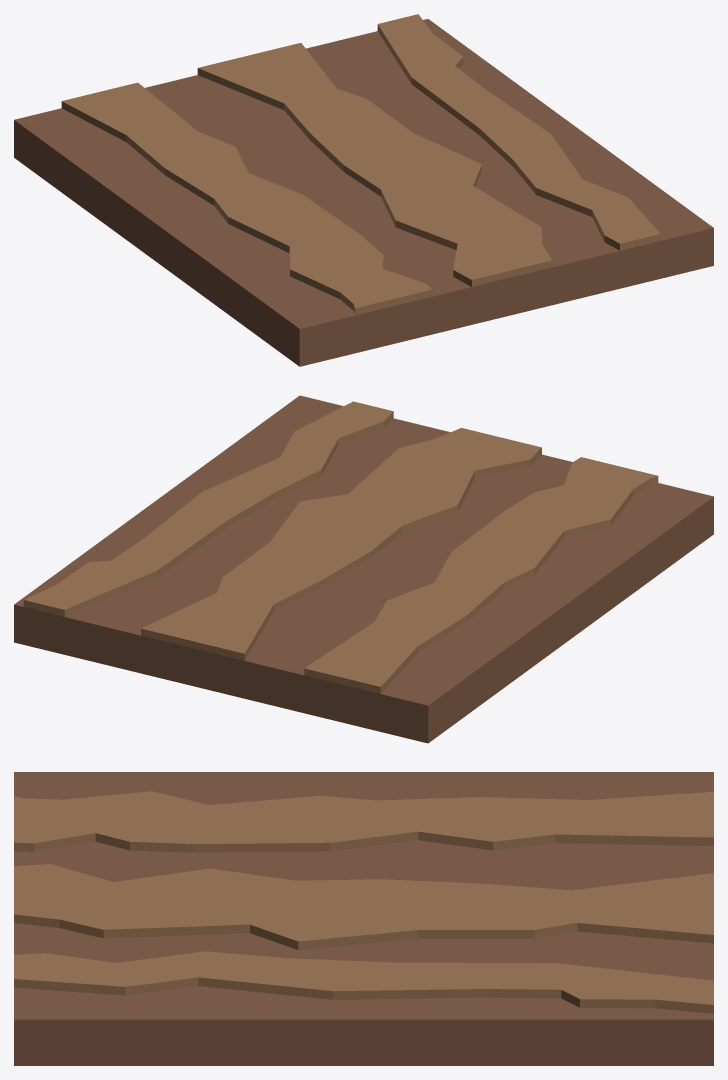
Rendered from CHAOMILHARAL1.fbx.
The picture shows the model from 3 angles, top to bottom: view 1: azimuth 30°, elevation 25°; view 2: azimuth 150°, elevation 25°; view 3: azimuth 270°, elevation 25°; orthographic projection. The views are drawn at different scales.
Visible parts, largest first — view 1: Cube; view 2: Cube; view 3: Cube.
Boxes of the visible parts, x1,y1,x2,y2 form: Cube: (14, 14, 713, 366); Cube: (14, 395, 713, 743); Cube: (14, 772, 713, 1065).
Bounding box in the file's own units: 327 × 33.87 × 391.
